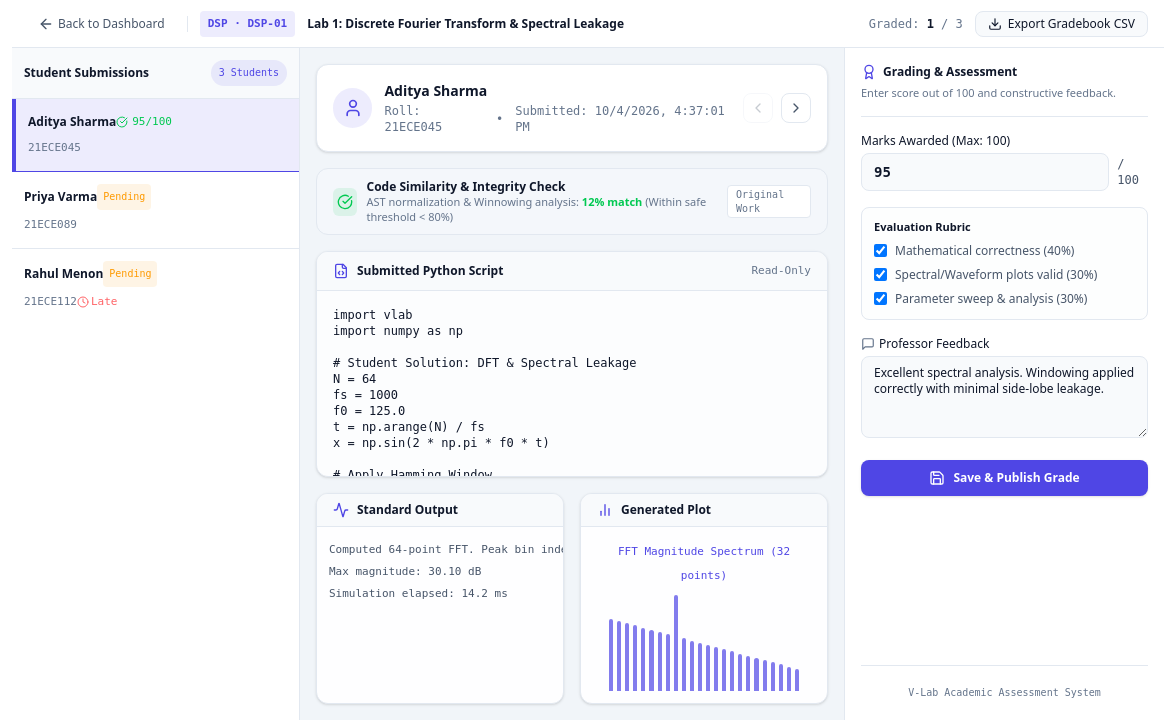
Test case: Milestone 2: Professor Dashboard & Grading Suite › renders SubmissionReview with student code, plot preview, and grading rubric
Expected: the text "Back to Dashboard" is shown, left=58, top=16, right=165, bottom=32
Expected: the text "Student Submissions" is shown, left=24, top=65, right=149, bottom=81
// Save Grade action
Click the button "Save & Publish Grade": (1004, 478) left=861, top=460, right=1148, bottom=496
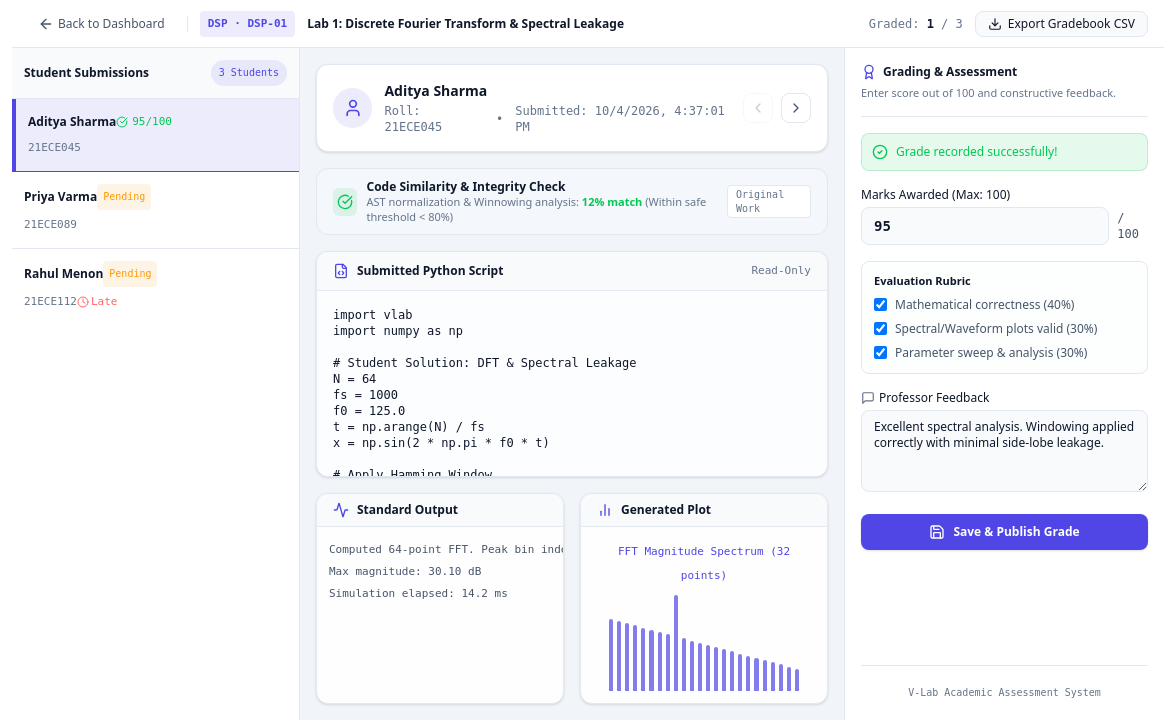
Expected: the text "Grade recorded successfully!" is shown, left=896, top=144, right=1057, bottom=160
